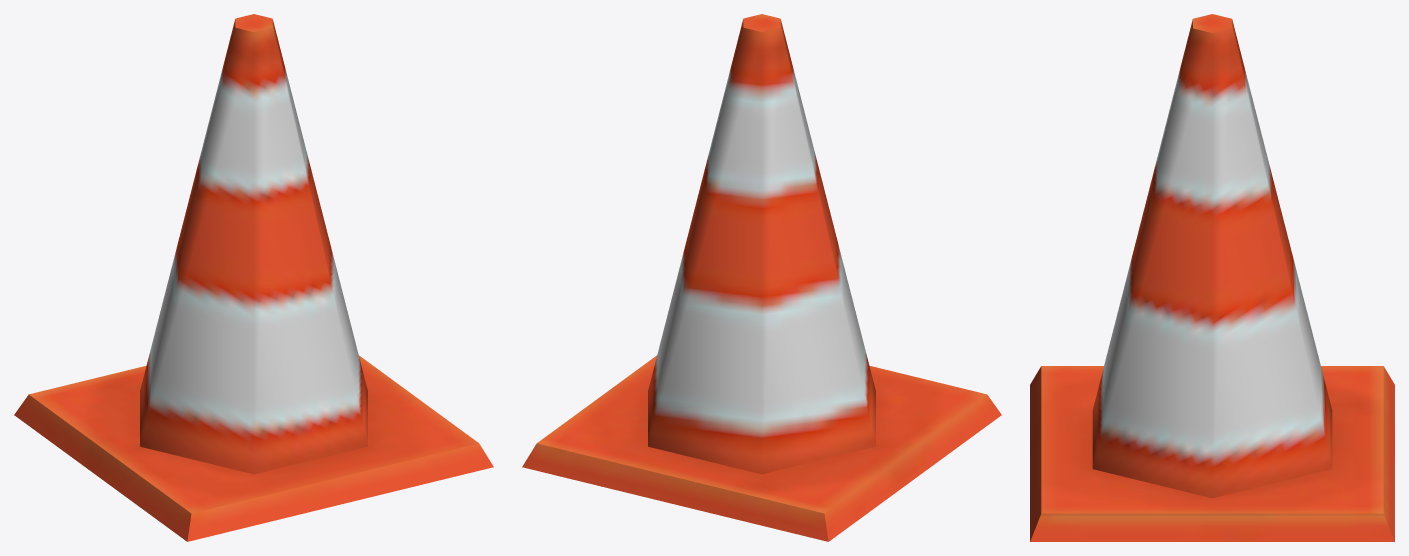
The model's file is ConeAnimated.fbx.
3 renders of one model, left to right at view 1: azimuth 30°, elevation 25°; view 2: azimuth 150°, elevation 25°; view 3: azimuth 270°, elevation 25°, orthographic. The views are drawn at different scales.
Parts seen in each view (by area): view 1: ConeAnimated; view 2: ConeAnimated; view 3: ConeAnimated.
Part boxes in pixels (x1,y1,x2,y2): ConeAnimated: (14, 14, 493, 541); ConeAnimated: (522, 14, 1001, 541); ConeAnimated: (1030, 14, 1394, 541).
Size of the model in its own units: 0.3941 by 0.5135 by 0.3861.
Materials: 1 (1 with a texture image).
